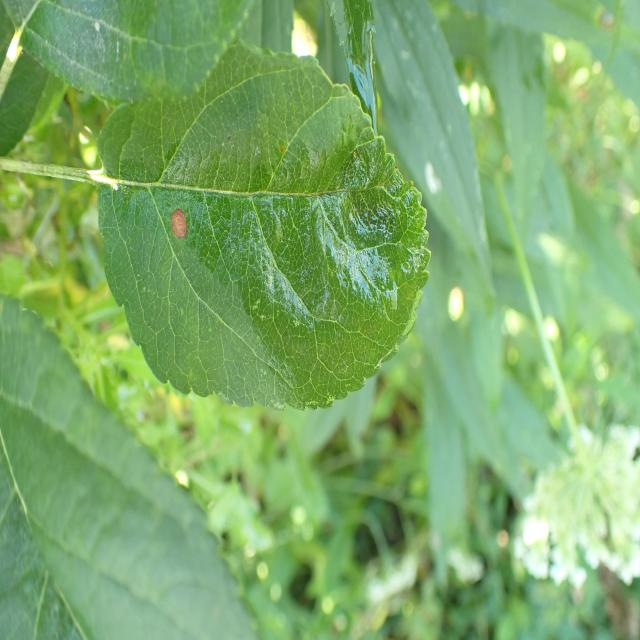Black Rot: (160, 194, 200, 250)
